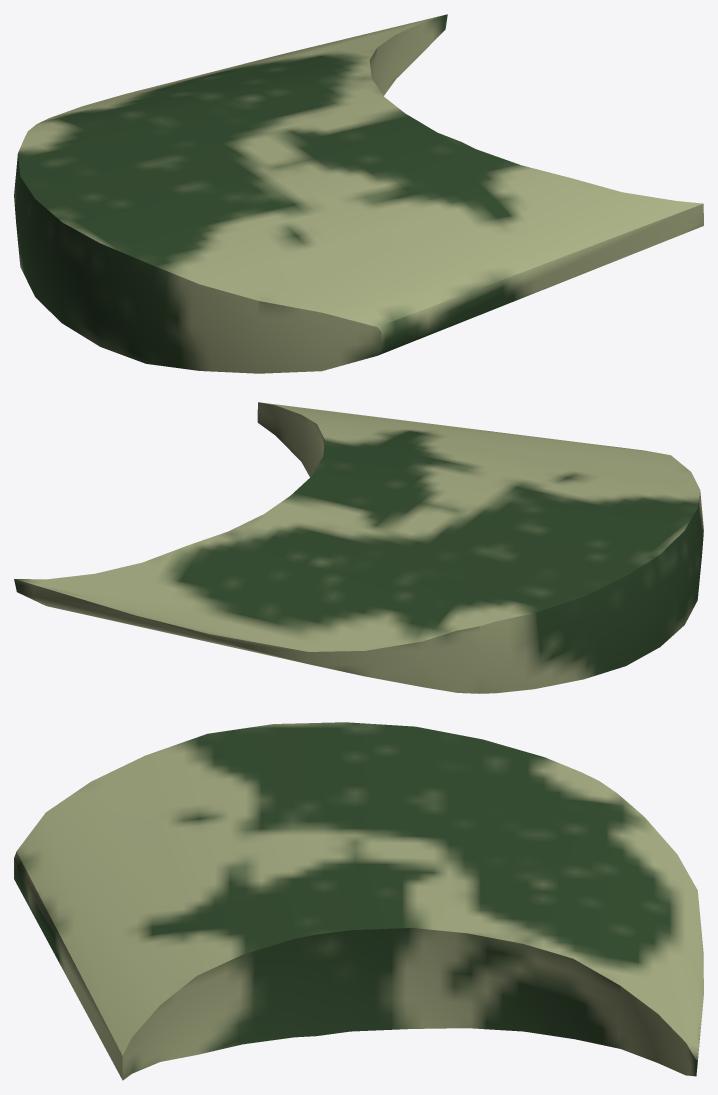
Rendered from link_body_37.obj.
3 views of the same model, one above another, from view 1: azimuth 30°, elevation 25°; view 2: azimuth 150°, elevation 25°; view 3: azimuth 270°, elevation 25° (orthographic). The views are drawn at different scales.
Visible parts, largest first — view 1: link_body_37; view 2: link_body_37; view 3: link_body_37.
Part boxes in pixels (left/top/right/bottom): link_body_37: left=14, top=14, right=703, bottom=373; link_body_37: left=14, top=402, right=703, bottom=693; link_body_37: left=14, top=722, right=703, bottom=1080.
Bounding box in the file's own units: 6.58 × 1.18 × 6.48.
